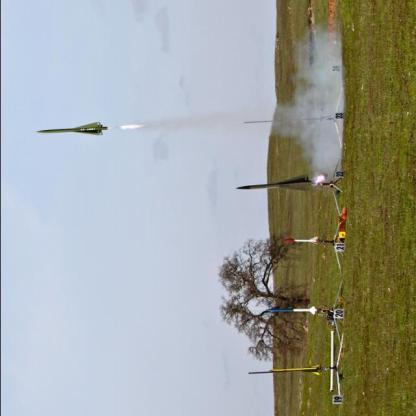MIL_TBM: (238, 174, 313, 191), (34, 122, 110, 136), (270, 364, 319, 374), (266, 307, 317, 314), (284, 238, 319, 244)
